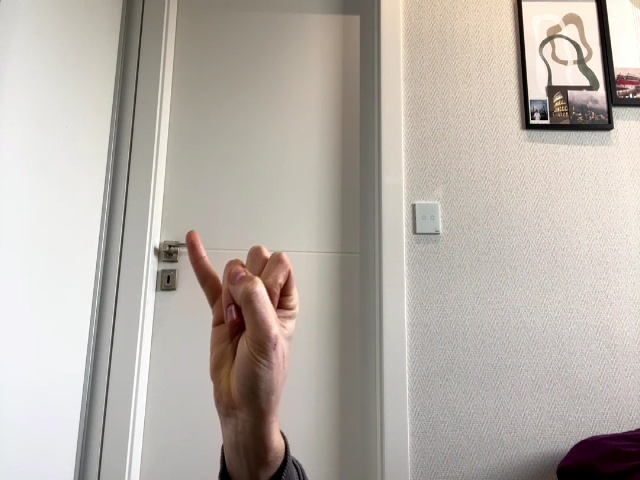I: (184, 228, 299, 408)
